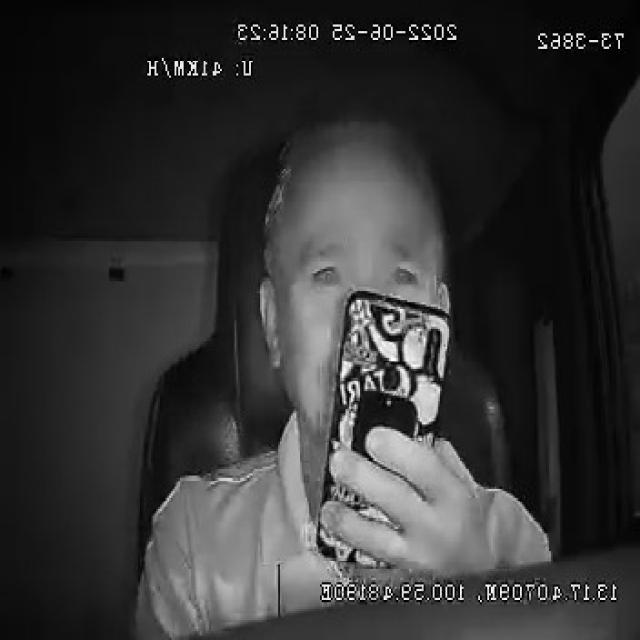phone: (316, 290, 456, 568)
